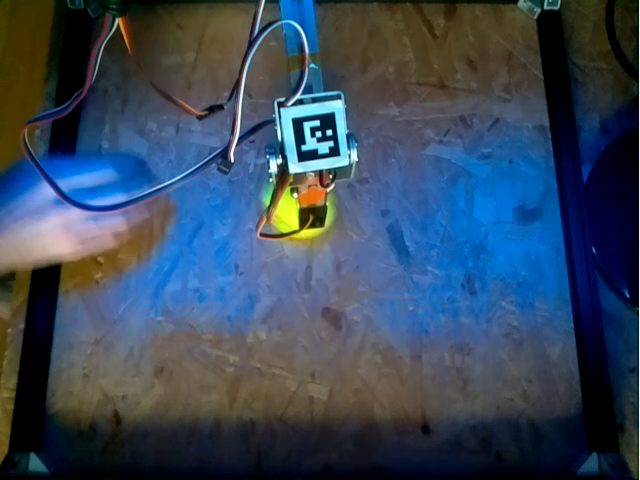tennis_ball: (275, 190, 338, 234)
